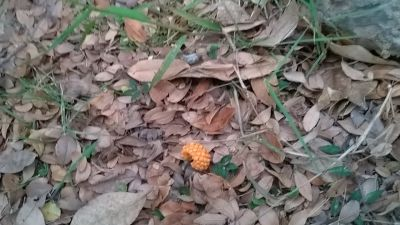eggs: (182, 141, 212, 171)
